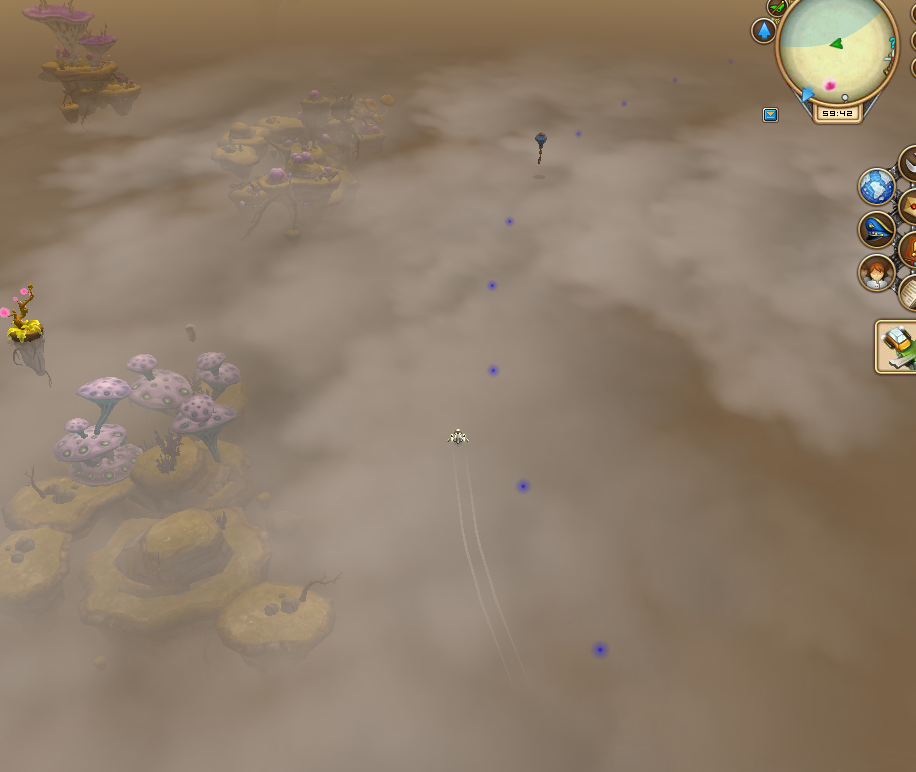dandelion-full: (0, 276, 54, 385)
